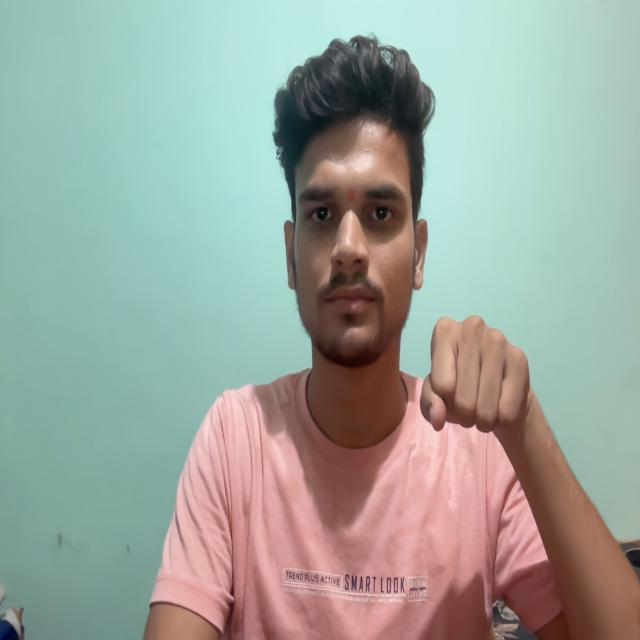yes: (419, 300, 565, 509)
